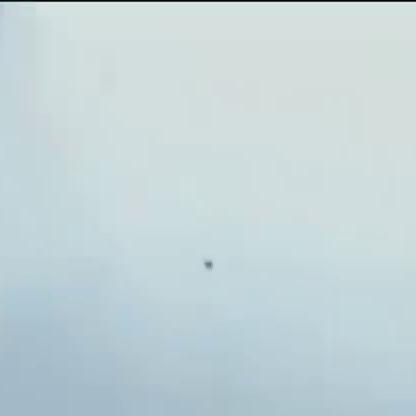golfball: (203, 257, 213, 267)
